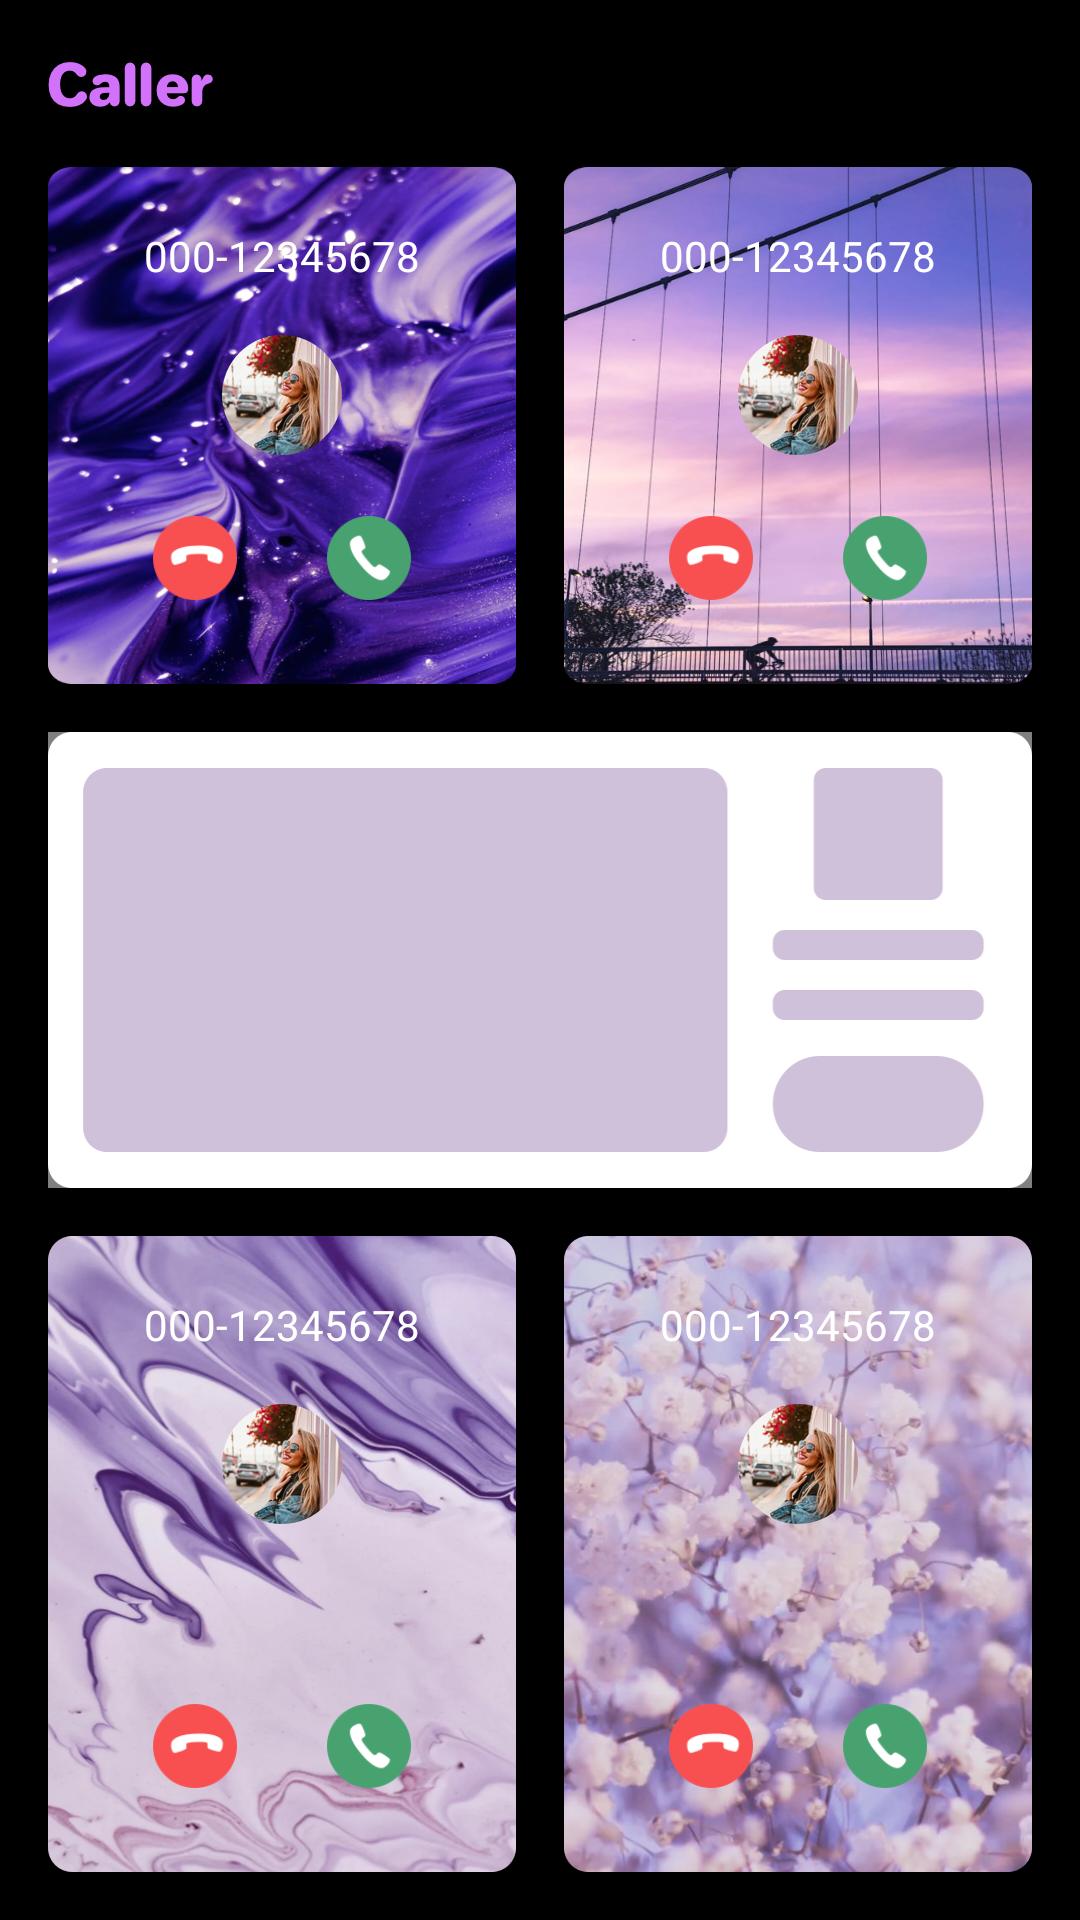

Where to tap for icons on this 1080×1920 app screen, as (x,y):
accpet: (369,558), (885,558), (369,1746), (885,1746)
hangup: (195,558), (711,558), (195,1746), (711,1746)
head: (282,395), (798,395), (282,1464), (798,1464)
